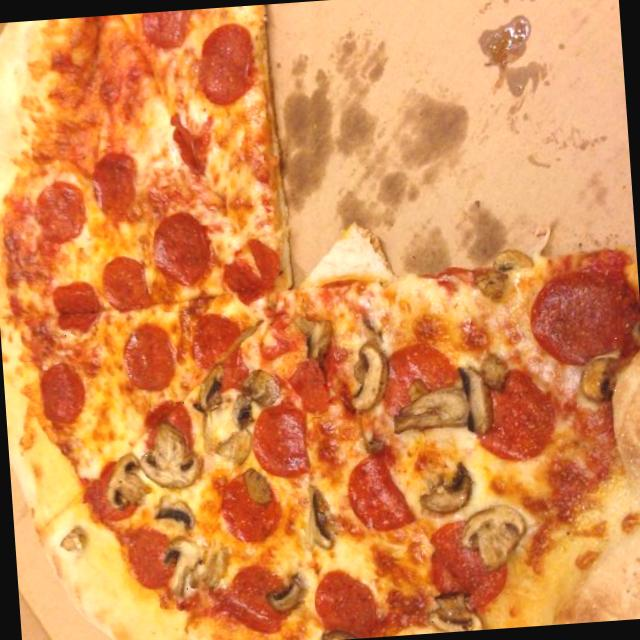mushrooms: (388, 352, 492, 456), (130, 426, 207, 492), (568, 336, 629, 414), (459, 501, 532, 566), (339, 334, 393, 418), (416, 446, 478, 518), (96, 453, 158, 522), (158, 530, 208, 608), (198, 370, 252, 430), (430, 584, 477, 633), (289, 318, 335, 366), (262, 570, 306, 620), (150, 496, 192, 530)
pepperoni: (517, 260, 640, 373), (420, 515, 519, 621), (370, 326, 462, 432), (458, 367, 559, 461), (344, 448, 420, 540), (309, 564, 397, 640), (8, 176, 84, 260), (209, 560, 290, 638), (240, 400, 315, 481), (193, 20, 257, 105), (116, 524, 192, 594), (211, 463, 277, 542), (116, 319, 184, 393), (154, 210, 212, 290), (122, 8, 202, 64), (222, 239, 286, 309), (82, 149, 132, 225), (92, 246, 146, 314), (38, 278, 96, 338), (38, 360, 86, 430), (186, 312, 242, 369), (130, 396, 200, 439)
pizza: (0, 6, 640, 640)
